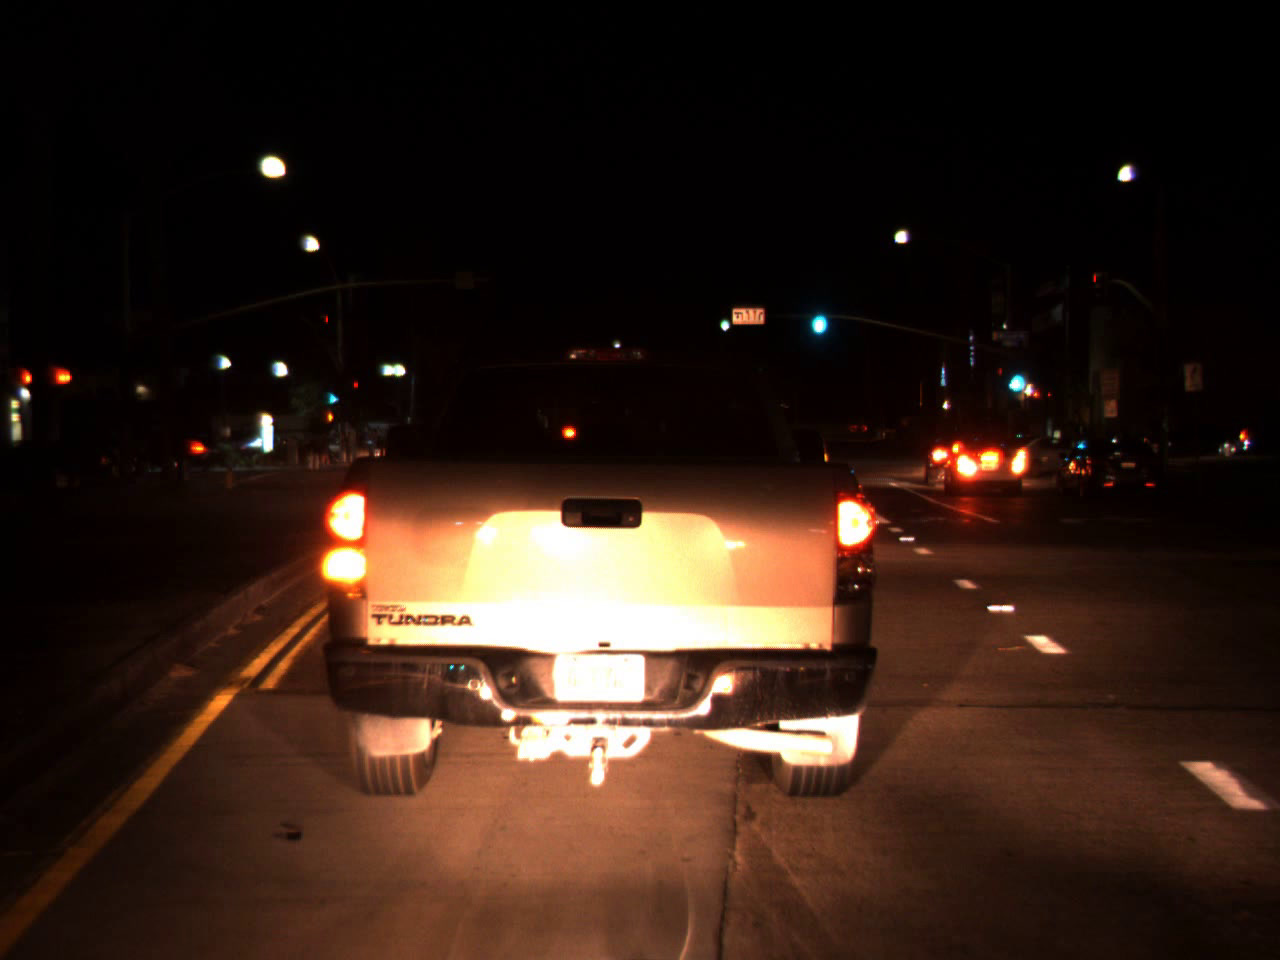go: (806, 292, 829, 340), (1003, 358, 1026, 394), (324, 377, 343, 410), (717, 309, 729, 333)
